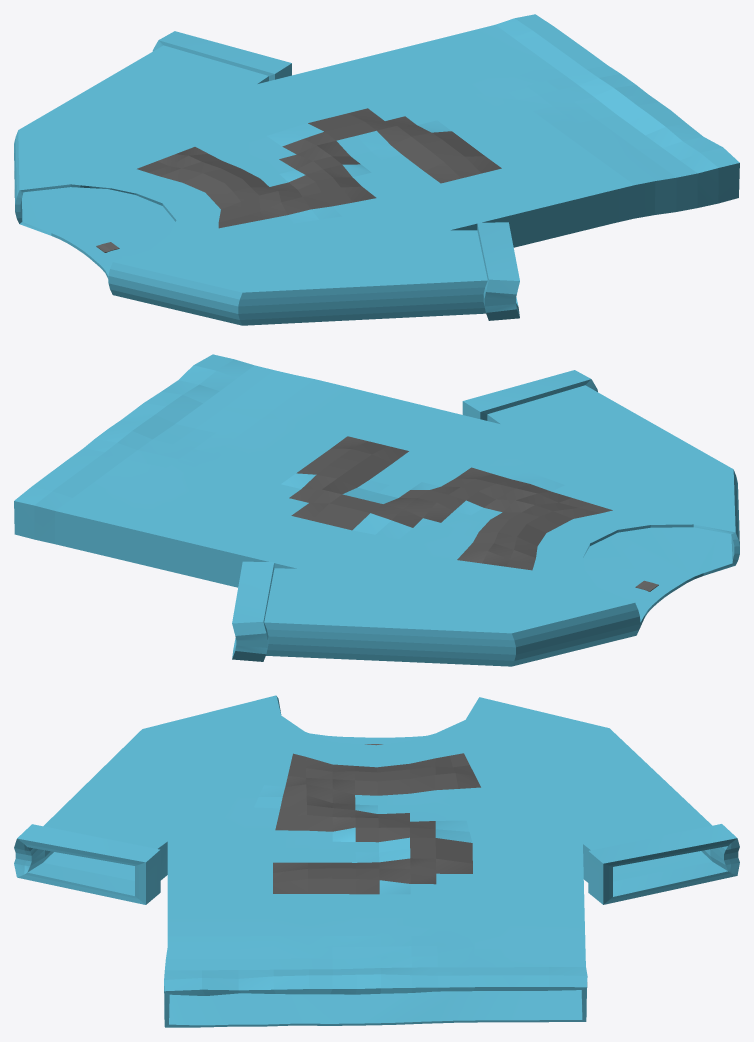
Rendered from Shirt 1.fbx.
The picture shows the model from 3 angles, top to bottom: view 1: azimuth 30°, elevation 25°; view 2: azimuth 150°, elevation 25°; view 3: azimuth 270°, elevation 25°; orthographic projection. The views are drawn at different scales.
Visible parts, largest first — view 1: Node 0; view 2: Node 0; view 3: Node 0.
Part boxes in pixels (x1,y1,x2,y2): Node 0: (14,14,739,325); Node 0: (14,354,739,666); Node 0: (14,695,739,1027).
Size of the model in its own units: 1.07 by 0.0737 by 1.1.
